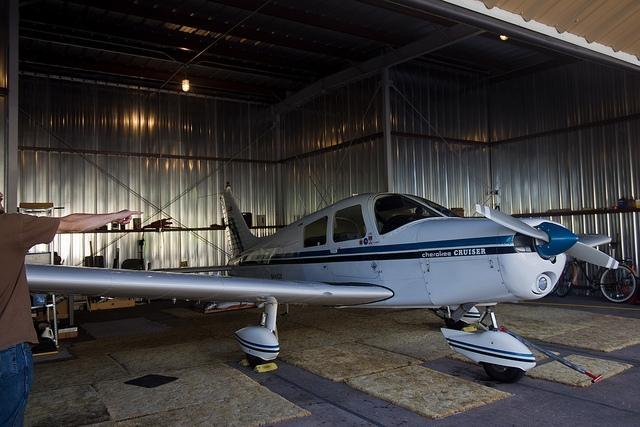bicycle: (557, 252, 640, 300)
